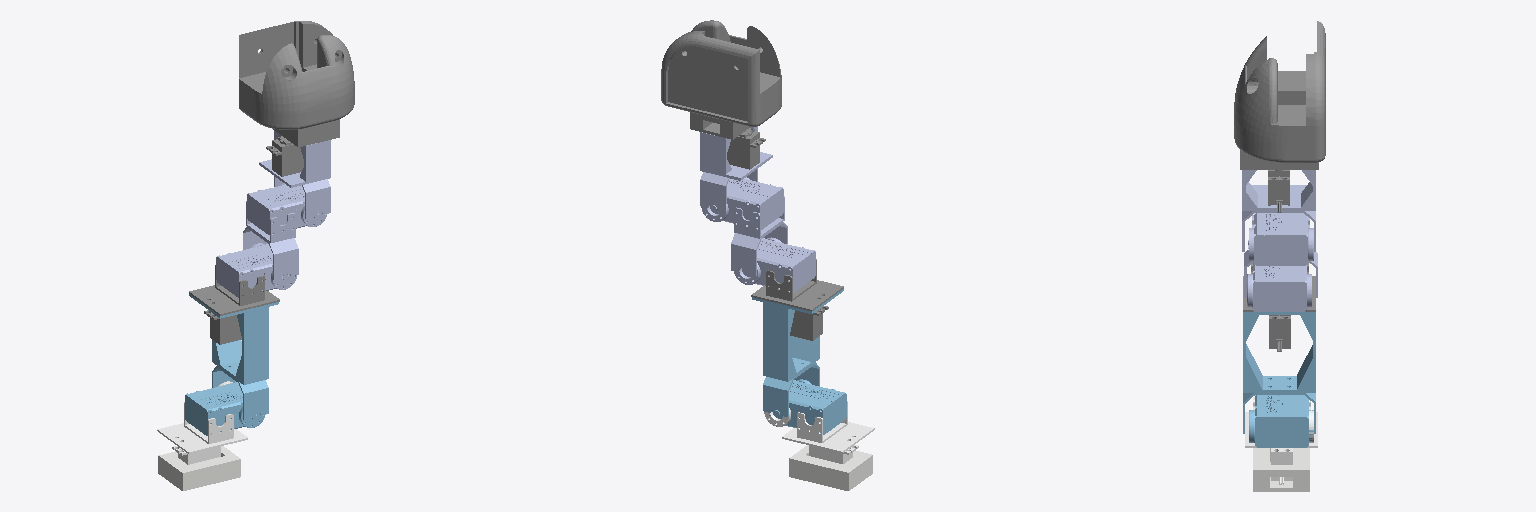
robot.urdf — URDF_9:
<?xml version="1.0" encoding="utf-8"?>
<!-- This URDF was automatically created by SolidWorks to URDF Exporter! Originally created by Stephen Brawner (brawner@gmail.com) 
     Commit Version: 1.6.0-4-g7f85cfe  Build Version: 1.6.7995.38578
     For more information, please see http://wiki.ros.org/sw_urdf_exporter -->
<robot
  name="URDF_9">
  <link
    name="base_link">
    <inertial>
      <origin
        xyz="0.0331749611163236 0.02525 0.0101300351999597"
        rpy="0 0 0" />
      <mass
        value="0.05558245" />
      <inertia
        ixx="1.73912561738778E-05"
        ixy="-5.79871201187952E-22"
        ixz="-3.26788141635758E-08"
        iyy="2.7667124326825E-05"
        iyz="-3.1312581223288E-22"
        izz="4.06353238383639E-05" />
    </inertial>
    <visual>
      <origin
        xyz="0 0 0"
        rpy="0 0 0" />
      <geometry>
        <mesh
          filename="package://wheelchair_arm_description/meshes/base_link.STL" />
      </geometry>
      <material
        name="">
        <color
          rgba="0.964705882352941 0.964705882352941 0.952941176470588 1" />
      </material>
    </visual>
    <collision>
      <origin
        xyz="0 0 0"
        rpy="0 0 0" />
      <geometry>
        <mesh
          filename="package://wheelchair_arm_description/meshes/base_link.STL" />
      </geometry>
    </collision>
  </link>
  <link
    name="L_1">
    <inertial>
      <origin
        xyz="-0.00638072273121493 0.00123235705692754 -0.0162398112706863"
        rpy="0 0 0" />
      <mass
        value="0.0499439398084521" />
      <inertia
        ixx="1.1710458826811E-05"
        ixy="-3.46882841864702E-16"
        ixz="-9.88937138076899E-08"
        iyy="1.42718106661737E-05"
        iyz="1.42652198731837E-16"
        izz="1.6020367220866E-05" />
    </inertial>
    <visual>
      <origin
        xyz="0 0 0"
        rpy="0 0 0" />
      <geometry>
        <mesh
          filename="package://wheelchair_arm_description/meshes/L_1.STL" />
      </geometry>
      <material
        name="">
        <color
          rgba="1 1 1 1" />
      </material>
    </visual>
    <collision>
      <origin
        xyz="0 0 0"
        rpy="0 0 0" />
      <geometry>
        <mesh
          filename="package://wheelchair_arm_description/meshes/L_1.STL" />
      </geometry>
    </collision>
  </link>
  <joint
    name="J_1"
    type="revolute">
    <origin
      xyz="0.0458 0.02525 0.04915"
      rpy="0 0 0" />
    <parent
      link="base_link" />
    <child
      link="L_1" />
    <axis
      xyz="0 0 -1" />
    <limit
      lower="-3.14"
      upper="3.14"
      effort="0"
      velocity="0" />
  </joint>
  <link
    name="L_2">
    <inertial>
      <origin
        xyz="-0.0115932560616874 0.0281420797453003 0.0335578578918424"
        rpy="0 0 0" />
      <mass
        value="0.167270875445793" />
      <inertia
        ixx="0.000134478415081856"
        ixy="5.32393898236743E-08"
        ixz="3.81728375500888E-06"
        iyy="0.00011664367633649"
        iyz="-5.46197805040917E-09"
        izz="0.000105045326754089" />
    </inertial>
    <visual>
      <origin
        xyz="0 0 0"
        rpy="0 0 0" />
      <geometry>
        <mesh
          filename="package://wheelchair_arm_description/meshes/L_2.STL" />
      </geometry>
      <material
        name="">
        <color
          rgba="0.615686274509804 0.811764705882353 0.929411764705882 1" />
      </material>
    </visual>
    <collision>
      <origin
        xyz="0 0 0"
        rpy="0 0 0" />
      <geometry>
        <mesh
          filename="package://wheelchair_arm_description/meshes/L_2.STL" />
      </geometry>
    </collision>
  </link>
  <joint
    name="J_2"
    type="revolute">
    <origin
      xyz="0.037339818090959 -0.0289999999999999 0.020917348847749"
      rpy="0 0 0" />
    <parent
      link="L_1" />
    <child
      link="L_2" />
    <axis
      xyz="0 -1 0" />
    <limit
      lower="-1.57"
      upper="1.57"
      effort="0"
      velocity="0" />
  </joint>
  <link
    name="L_3">
    <inertial>
      <origin
        xyz="-0.00848789890136549 2.4458733649535E-13 -0.0152048204144244"
        rpy="0 0 0" />
      <mass
        value="0.0476213448400724" />
      <inertia
        ixx="1.15386033834559E-05"
        ixy="-3.47115223374676E-16"
        ixz="-1.0603056522929E-07"
        iyy="1.39370256997171E-05"
        iyz="1.42074169520797E-16"
        izz="1.58478330487925E-05" />
    </inertial>
    <visual>
      <origin
        xyz="0 0 0"
        rpy="0 0 0" />
      <geometry>
        <mesh
          filename="package://wheelchair_arm_description/meshes/L_3.STL" />
      </geometry>
      <material
        name="">
        <color
          rgba="0.627450980392157 0.627450980392157 0.627450980392157 1" />
      </material>
    </visual>
    <collision>
      <origin
        xyz="0 0 0"
        rpy="0 0 0" />
      <geometry>
        <mesh
          filename="package://wheelchair_arm_description/meshes/L_3.STL" />
      </geometry>
    </collision>
  </link>
  <joint
    name="J_3"
    type="revolute">
    <origin
      xyz="-0.000206922863093179 0.0272499999999999 0.124949828663065"
      rpy="0 0 0" />
    <parent
      link="L_2" />
    <child
      link="L_3" />
    <axis
      xyz="0.001656045322875 0 -0.999998628756004" />
    <limit
      lower="-1.57"
      upper="1.57"
      effort="0"
      velocity="0" />
  </joint>
  <link
    name="L_4">
    <inertial>
      <origin
        xyz="-0.0164339481454744 0.0289312371117282 0.00399192864761125"
        rpy="0 0 0" />
      <mass
        value="0.111224978777066" />
      <inertia
        ixx="3.37618899770515E-05"
        ixy="5.32483622106615E-08"
        ixz="-3.99798919458255E-08"
        iyy="4.27583923653752E-05"
        iyz="-5.37380383546374E-09"
        izz="5.92279952726326E-05" />
    </inertial>
    <visual>
      <origin
        xyz="0 0 0"
        rpy="0 0 0" />
      <geometry>
        <mesh
          filename="package://wheelchair_arm_description/meshes/L_4.STL" />
      </geometry>
      <material
        name="">
        <color
          rgba="0.792156862745098 0.819607843137255 0.933333333333333 1" />
      </material>
    </visual>
    <collision>
      <origin
        xyz="0 0 0"
        rpy="0 0 0" />
      <geometry>
        <mesh
          filename="package://wheelchair_arm_description/meshes/L_4.STL" />
      </geometry>
    </collision>
  </link>
  <joint
    name="J_4"
    type="revolute">
    <origin
      xyz="0.0372969293868829 -0.0289999999999999 0.0259291498084092"
      rpy="0 0 0" />
    <parent
      link="L_3" />
    <child
      link="L_4" />
    <axis
      xyz="0 -1 0" />
    <limit
      lower="-3.14"
      upper="3.14"
      effort="0"
      velocity="0" />
  </joint>
  <link
    name="L_5">
    <inertial>
      <origin
        xyz="-0.0139013927909064 0.0283329354947893 0.0152109028885586"
        rpy="0 0 0" />
      <mass
        value="0.137791180144517" />
      <inertia
        ixx="5.92611235400966E-05"
        ixy="5.32483623143994E-08"
        ixz="-1.57232082986244E-06"
        iyy="5.4992237695882E-05"
        iyz="-5.37380355400083E-09"
        izz="7.96728595796037E-05" />
    </inertial>
    <visual>
      <origin
        xyz="0 0 0"
        rpy="0 0 0" />
      <geometry>
        <mesh
          filename="package://wheelchair_arm_description/meshes/L_5.STL" />
      </geometry>
      <material
        name="">
        <color
          rgba="0.792156862745098 0.819607843137255 0.933333333333333 1" />
      </material>
    </visual>
    <collision>
      <origin
        xyz="0 0 0"
        rpy="0 0 0" />
      <geometry>
        <mesh
          filename="package://wheelchair_arm_description/meshes/L_5.STL" />
      </geometry>
    </collision>
  </link>
  <joint
    name="J_5"
    type="revolute">
    <origin
      xyz="0.037235738512203 0.00125 0.062879099140944"
      rpy="0 0 0" />
    <parent
      link="L_4" />
    <child
      link="L_5" />
    <axis
      xyz="0 -1 0" />
    <limit
      lower="-3.14"
      upper="3.14"
      effort="0"
      velocity="0" />
  </joint>
  <link
    name="L_6">
    <inertial>
      <origin
        xyz="0.00189567045876948 0.00188804321713683 0.0401729230773615"
        rpy="0 0 0" />
      <mass
        value="0.433117123347136" />
      <inertia
        ixx="0.000449149705365037"
        ixy="-1.71665129163444E-05"
        ixz="-2.70316268041665E-05"
        iyy="0.000660692996098017"
        iyz="-2.19370046333434E-05"
        izz="0.000644865056405187" />
    </inertial>
    <visual>
      <origin
        xyz="0 0 0"
        rpy="0 0 0" />
      <geometry>
        <mesh
          filename="package://wheelchair_arm_description/meshes/L_6.STL" />
      </geometry>
      <material
        name="">
        <color
          rgba="0.627450980392157 0.627450980392157 0.627450980392157 1" />
      </material>
    </visual>
    <collision>
      <origin
        xyz="0 0 0"
        rpy="0 0 0" />
      <geometry>
        <mesh
          filename="package://wheelchair_arm_description/meshes/L_6.STL" />
      </geometry>
    </collision>
  </link>
  <joint
    name="J_6"
    type="revolute">
    <origin
      xyz="-0.0001406 0.02725 0.0849"
      rpy="0 0 0" />
    <parent
      link="L_5" />
    <child
      link="L_6" />
    <axis
      xyz="0.001656 0 -1" />
    <limit
      lower="-3.14"
      upper="3.14"
      effort="0"
      velocity="0" />
  </joint>
  <link
    name="L_7">
    <inertial>
      <origin
        xyz="0.0058865 -0.0019373 0.051633"
        rpy="0 0 0" />
      <mass
        value="0.23064" />
      <inertia
        ixx="0.00015177"
        ixy="2.9171E-07"
        ixz="5.9496E-06"
        iyy="0.00019313"
        iyz="1.9772E-06"
        izz="5.6801E-05" />
    </inertial>
    <visual>
      <origin
        xyz="0 0 0"
        rpy="0 0 0" />
      <geometry>
        <mesh
          filename="package://wheelchair_arm_description/meshes/L_7.STL" />
      </geometry>
      <material
        name="">
        <color
          rgba="0.72549 0.60392 0.11765 1" />
      </material>
    </visual>
    <collision>
      <origin
        xyz="0 0 0"
        rpy="0 0 0" />
      <geometry>
        <mesh
          filename="package://wheelchair_arm_description/meshes/L_7.STL" />
      </geometry>
    </collision>
  </link>
  <joint
    name="j_7"
    type="continuous">
    <origin
      xyz="-8.2388E-05 0.0111 0.04975"
      rpy="0 0 0" />
    <parent
      link="L_6" />
    <child
      link="L_7" />
    <axis
      xyz="0 0 0" />
    <limit
      lower="-3.14"
      upper="3.14"
      effort="0"
      velocity="0" />
  </joint>
</robot>

--- Render facts (derived) ---
3 views of the same robot in one strip: view 1: azimuth 30°, elevation 25°; view 2: azimuth 150°, elevation 25°; view 3: azimuth 270°, elevation 25° (orthographic).
Model URDF_9 with 8 links and 7 joints (6 revolute, 1 continuous), rooted at base_link, posed every joint at zero.
Links seen in each view (by area): view 1: L_6, L_2, L_5, L_4, L_3, L_1, base_link; view 2: L_6, L_2, L_5, L_4, L_3, L_1, base_link; view 3: L_6, L_2, L_5, L_4, base_link, L_3, L_1.
Boxes of the visible links, x1,y1,x2,y2 form: L_6: (239, 21, 354, 176); L_2: (185, 294, 278, 435); L_5: (247, 130, 330, 234); L_4: (216, 201, 298, 297); L_3: (189, 265, 279, 344); L_1: (157, 381, 247, 464); base_link: (158, 446, 240, 490); L_6: (661, 20, 781, 169); L_2: (752, 289, 846, 434); L_5: (700, 126, 783, 229); L_4: (731, 196, 815, 292); L_3: (751, 259, 843, 340); L_1: (764, 401, 874, 463); base_link: (789, 445, 872, 490); L_6: (1234, 21, 1325, 212); L_2: (1243, 312, 1315, 447); L_5: (1242, 170, 1315, 265); L_4: (1244, 215, 1317, 311); base_link: (1253, 448, 1309, 491); L_3: (1243, 262, 1315, 351); L_1: (1245, 397, 1317, 484).
Bounding box of the posed robot: 0.2174 × 0.0817 × 0.4783 m (x, y, z).
7 mesh visuals loaded from 8 distinct referenced files (7 binary STL); not drawn: 1 (reference not matched to a file when rendering).
